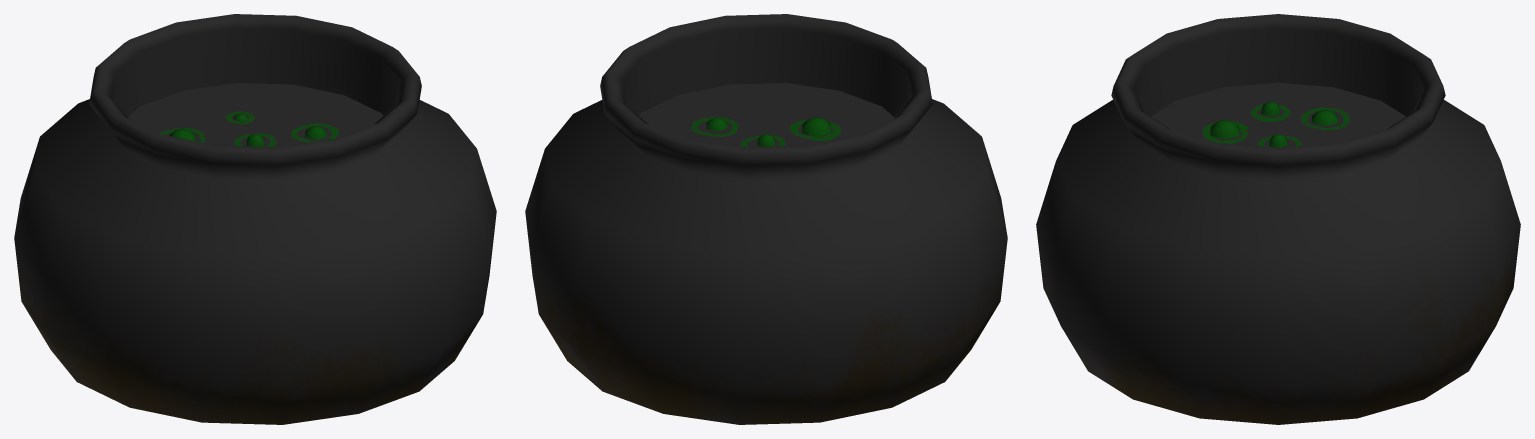
Rendered from Pot.fbx.
3 renders of one model, left to right at view 1: azimuth 30°, elevation 25°; view 2: azimuth 150°, elevation 25°; view 3: azimuth 270°, elevation 25°, orthographic.
Parts seen in each view (by area): view 1: Pot1; view 2: Pot1; view 3: Pot1.
Boxes of the visible parts, x1,y1,x2,y2 form: Pot1: (14, 14, 496, 424); Pot1: (525, 14, 1007, 424); Pot1: (1036, 14, 1520, 424).
Size of the model in its own units: 6.05 by 4.22 by 6.05.
Materials: 1 (1 with a texture image).
